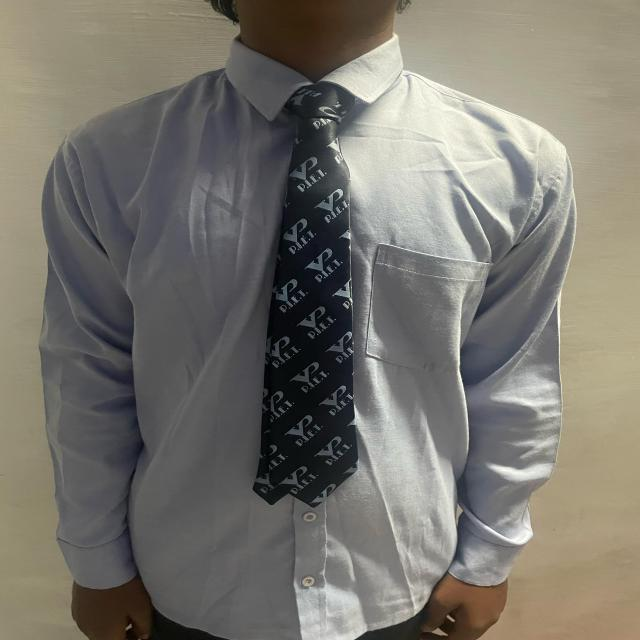Tie: (252, 81, 358, 508)
uniform: (38, 32, 577, 638)
